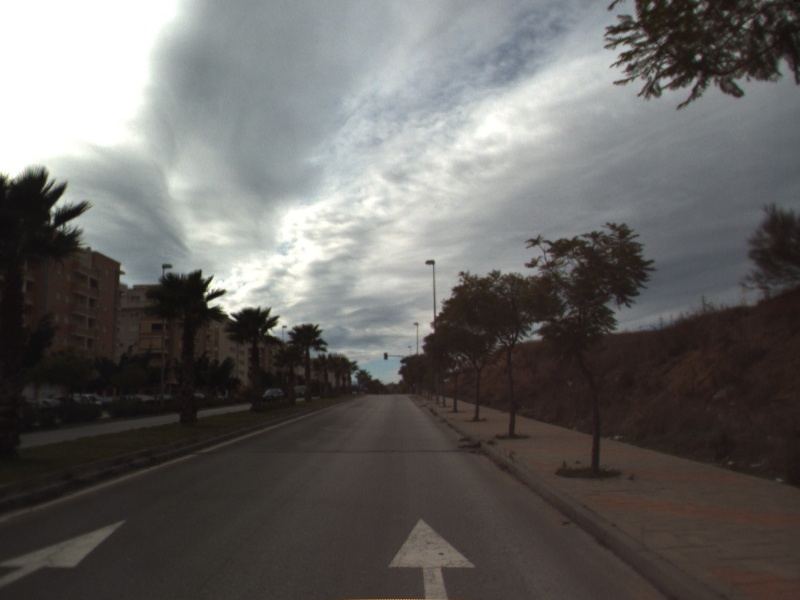STRAIGHT: (1, 517, 130, 590), (385, 516, 479, 600)
